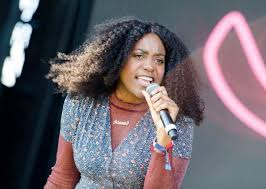black_female: (94, 14, 187, 108)
